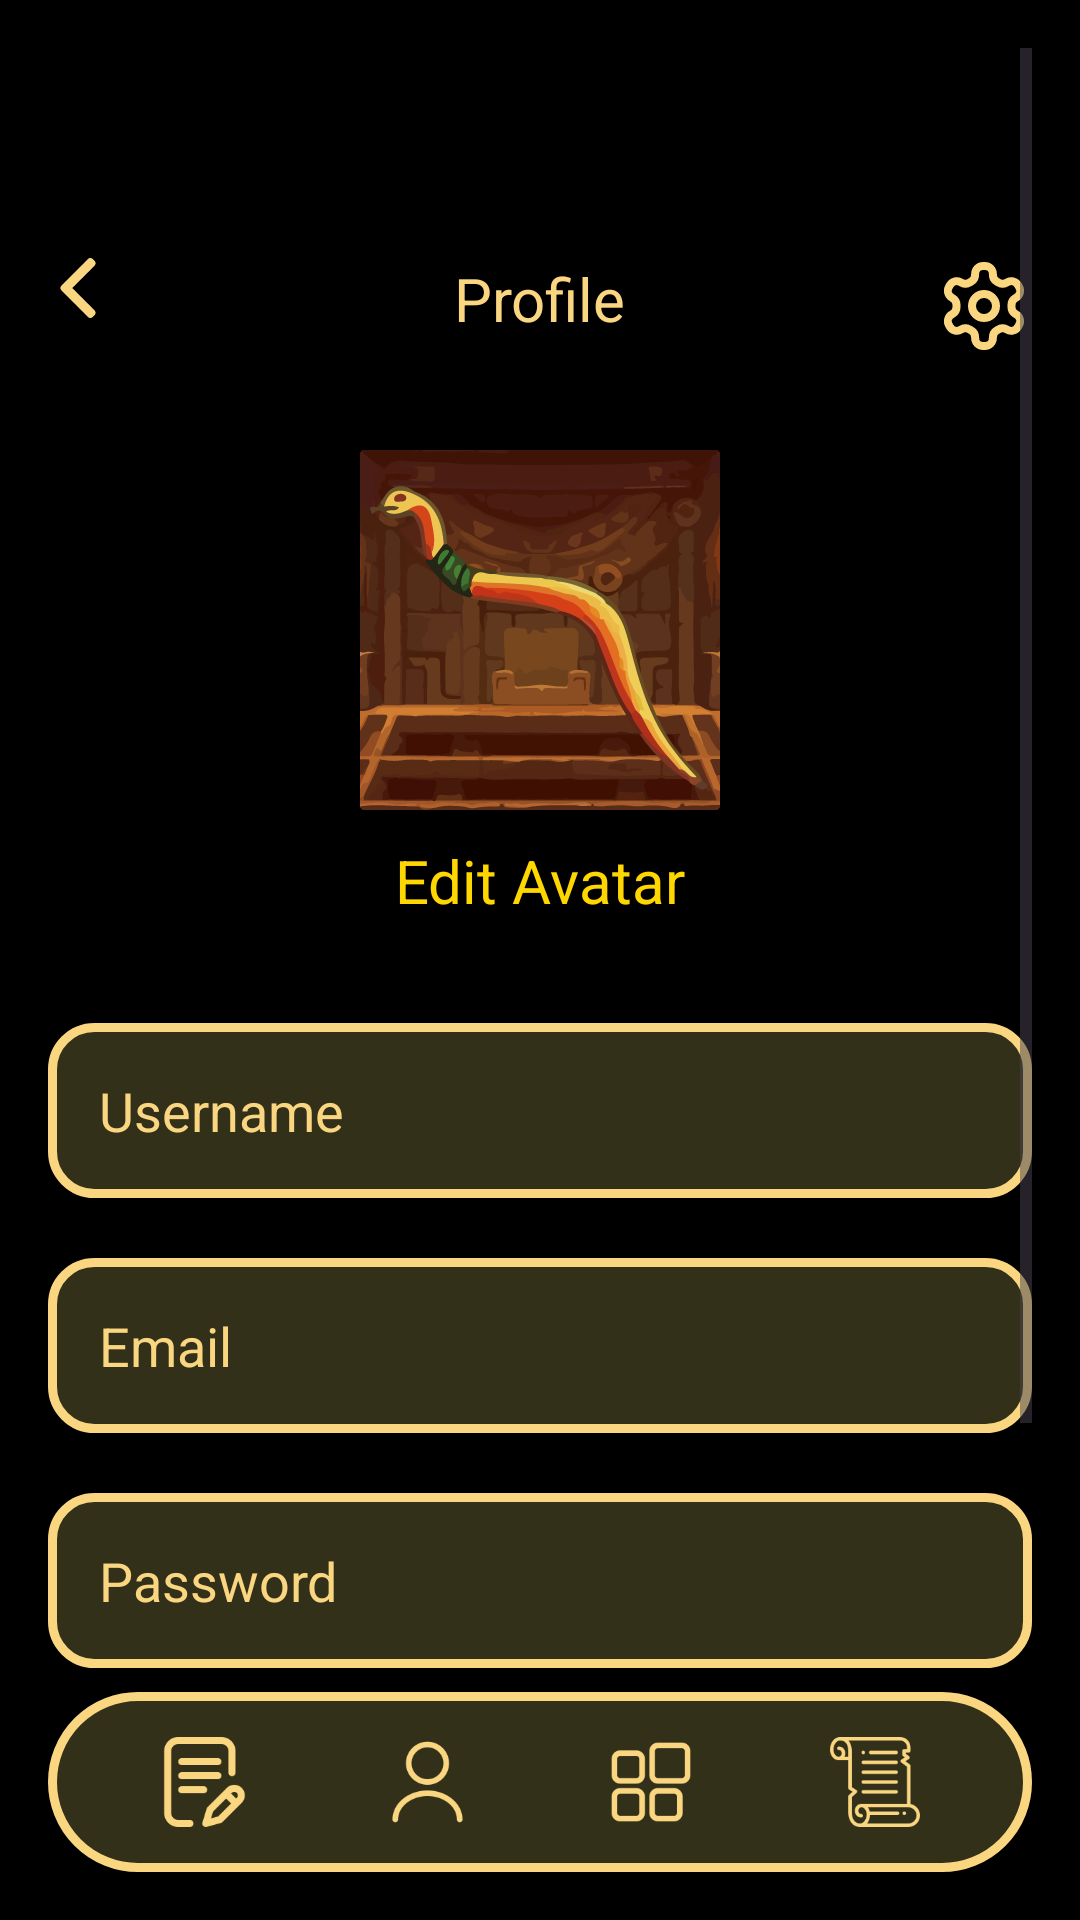

Where icons sit on this 1080 x 1920 app screen, as region(x1, y1, x2, y2):
arrow: region(60, 258, 96, 318)
Navigation Biography Icon: region(830, 1737, 920, 1827)
Navigation Main Icon: region(611, 1742, 691, 1822)
Navigation Notes Icon: region(164, 1737, 245, 1827)
Navigation Profile Icon: region(392, 1741, 463, 1823)
settings: region(944, 258, 1032, 354)
